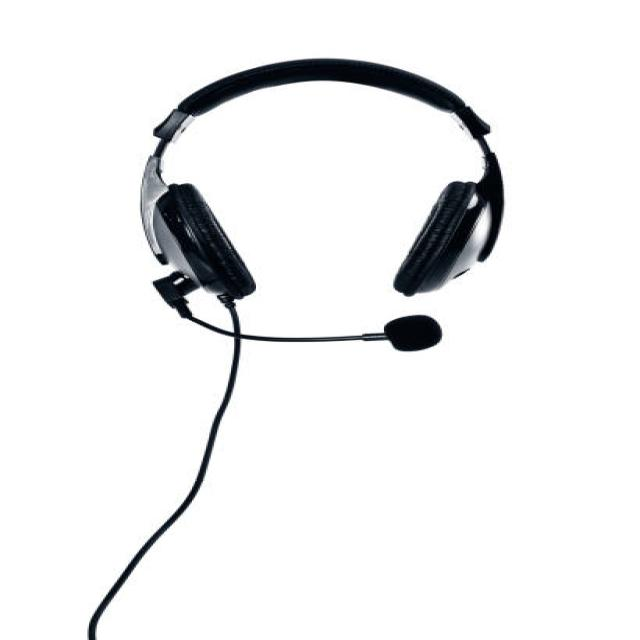Headphone: (134, 57, 506, 354)
